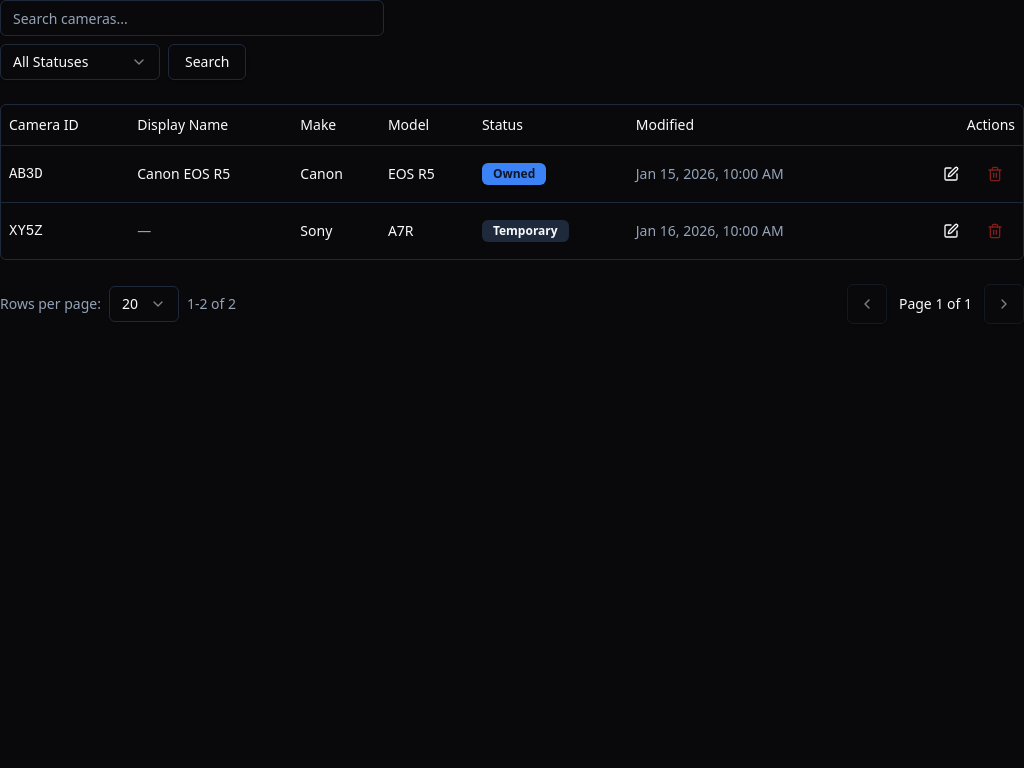
CamerasTab › shows delete confirmation when delete button is clicked
The image size is (1024, 768).
Click the button titled "Delete camera" in the row of "AB3D": (995,174) top-left (975, 154), bottom-right (1015, 194)
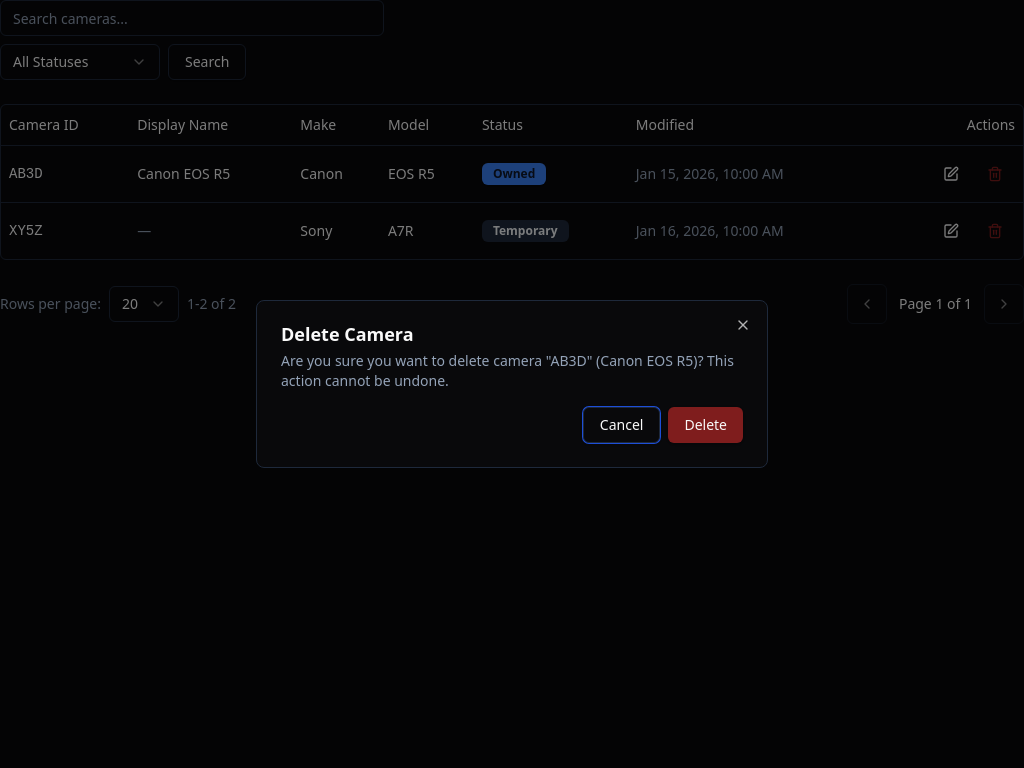
Expected: the heading "Delete Camera" is shown, top-left (281, 322), bottom-right (414, 346)
